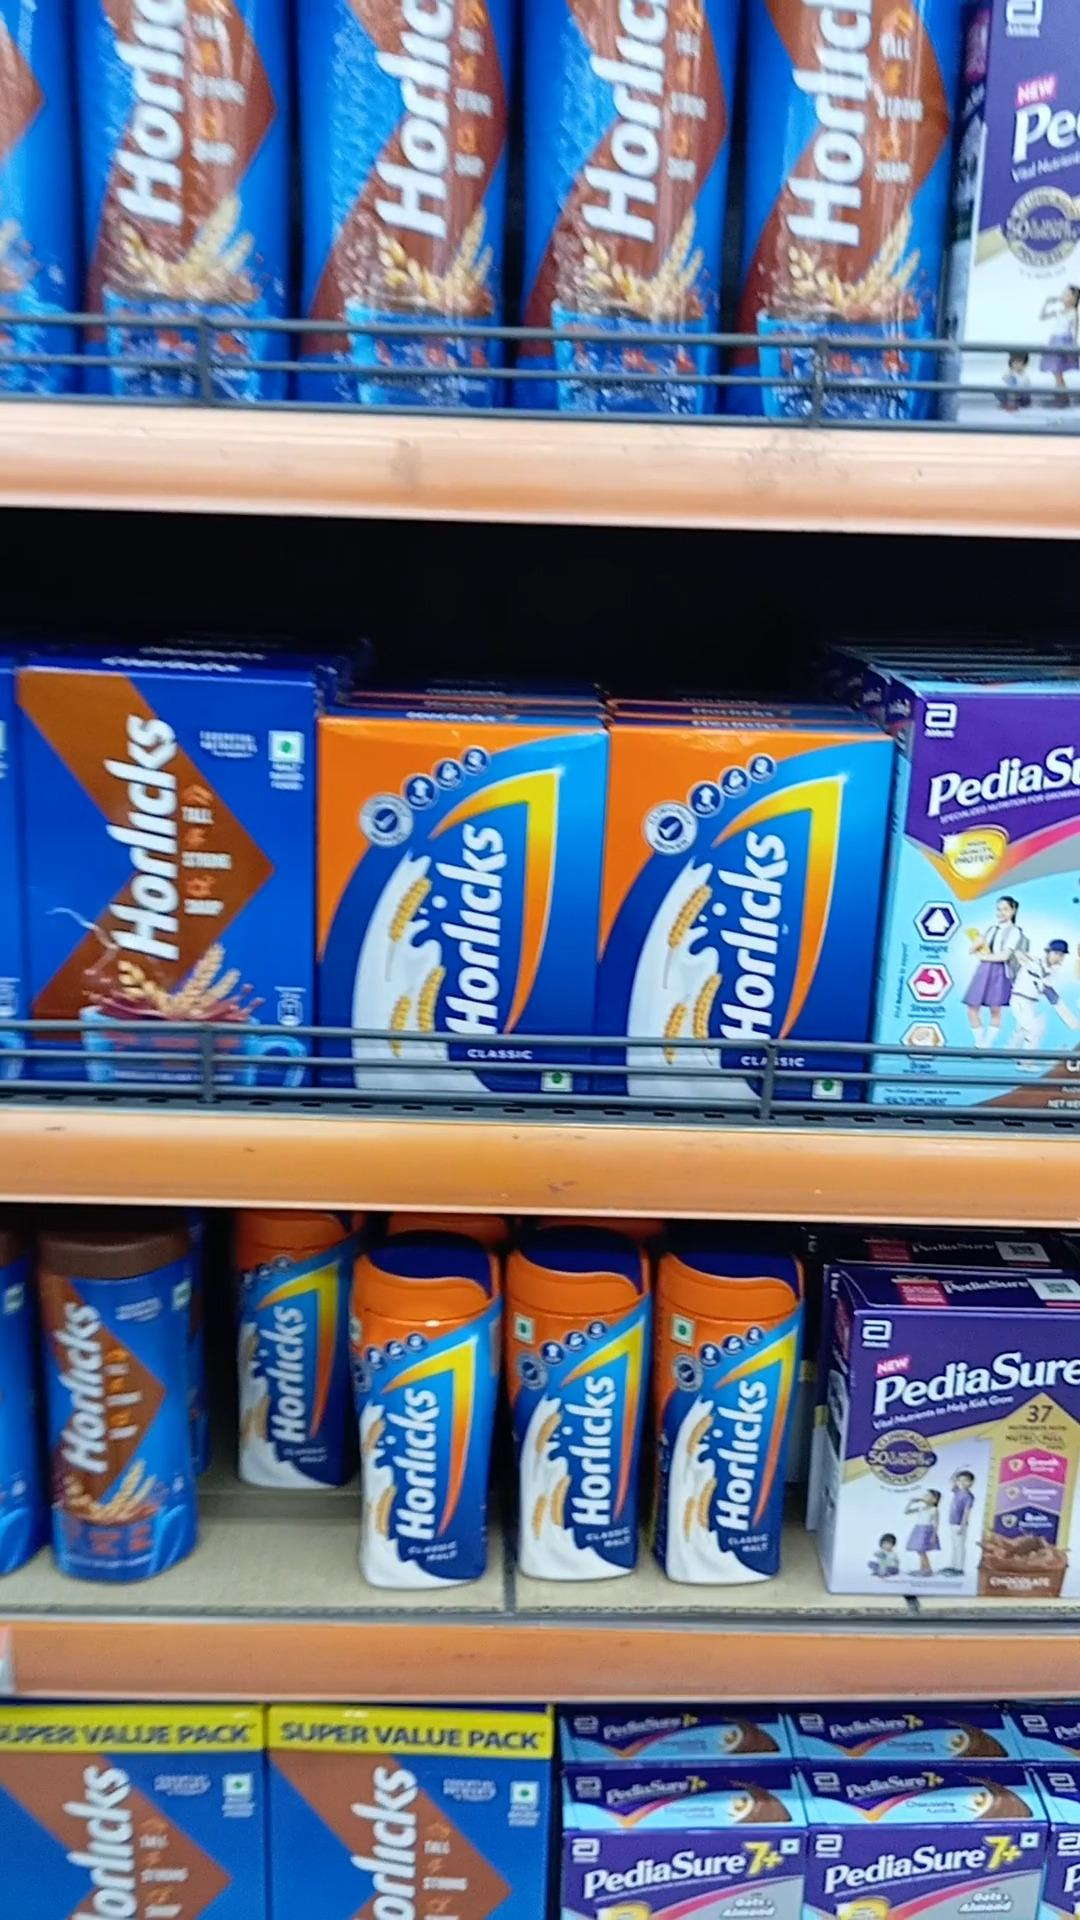HORLICK_CHOCOLATE_500_G_JAR: (42, 1222, 198, 1576)
HORLICK_CHOCOLATE_500_G_PACK: (20, 665, 311, 1098)
HORLICK_CLASSIC_MALT_500_G_JAR: (348, 1232, 493, 1594), (655, 1236, 790, 1586), (508, 1230, 633, 1584), (235, 1215, 342, 1487)
HORLICK_CLASSIC_MALT_500_G_PACK: (320, 725, 596, 1095), (611, 733, 866, 1109)
PEDIASURE_CHOCOLATE_500_G_PACK: (841, 1304, 1080, 1601)
